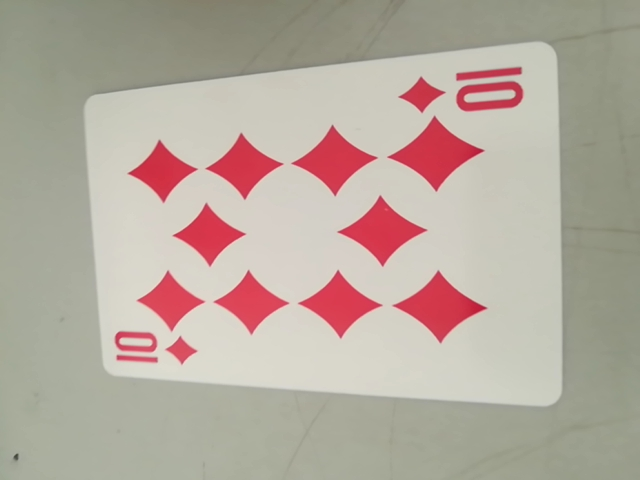fk 10: (403, 60, 535, 122), (108, 325, 201, 376)
